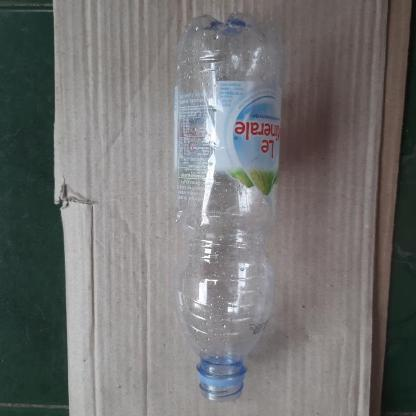Plastic Bottle: (138, 5, 320, 396)
